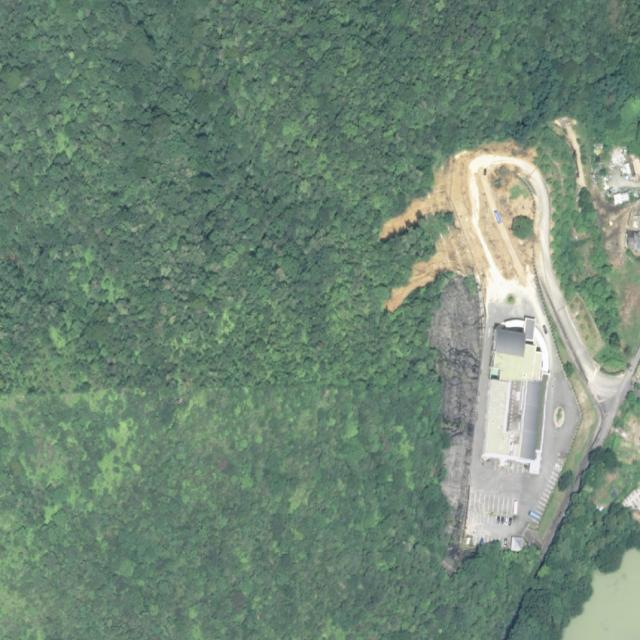landslide: (379, 150, 476, 312)
